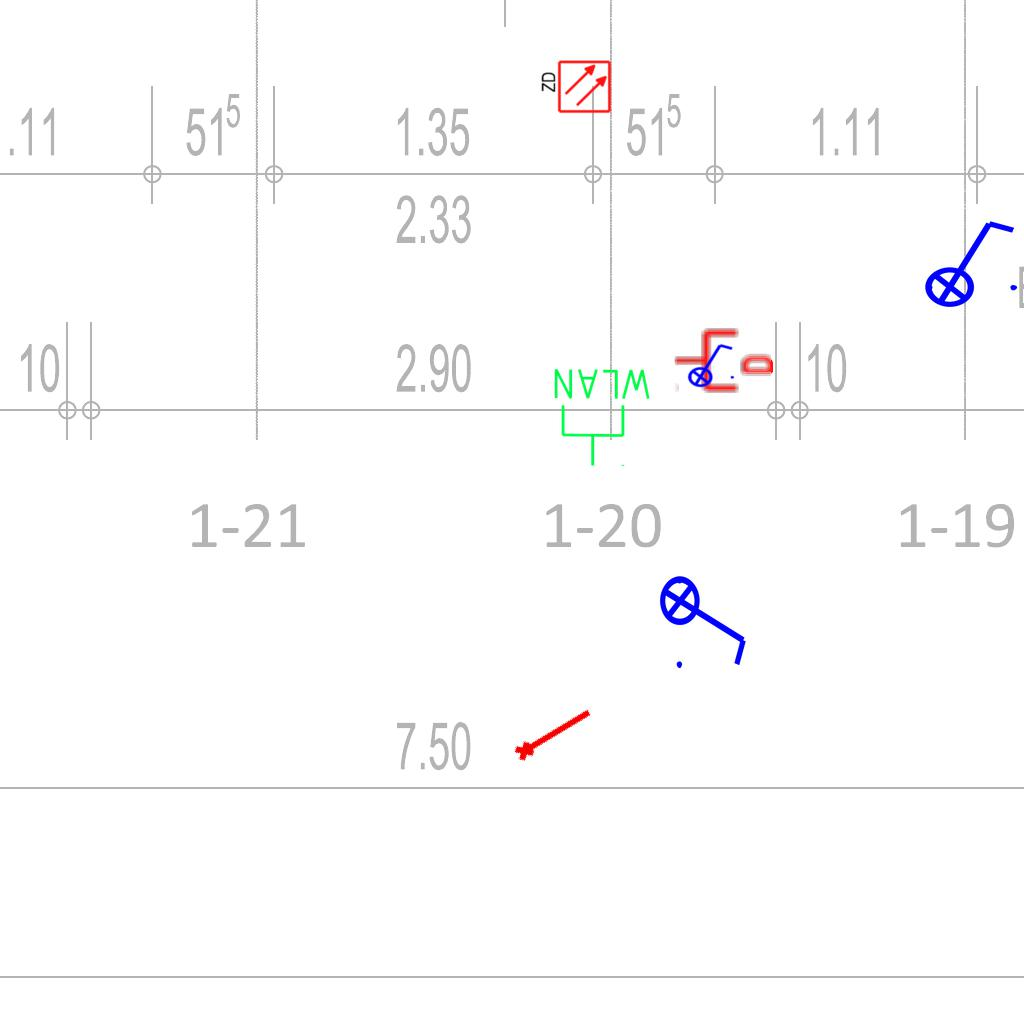ASR_Ansaugoeffnung: (509, 699, 597, 766)
Ausschalter_beleuchtet: (658, 562, 754, 674), (911, 213, 1023, 309), (681, 340, 737, 388)
Datenanschluss_einfach: (673, 326, 773, 395)
WLAN: (550, 365, 655, 469)
ZD_Melder_in_Zwischendecke_mit_Revisionsoeffnung_mind_40_x_40_cm: (538, 59, 612, 116)
